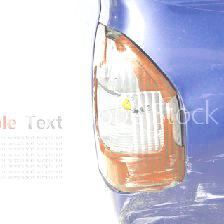tail_lamp: (92, 36, 151, 143)
